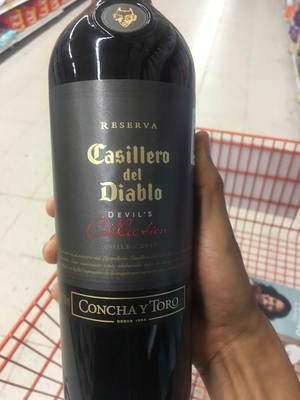casillero del diablo devils collection rojo: (46, 6, 197, 400)
